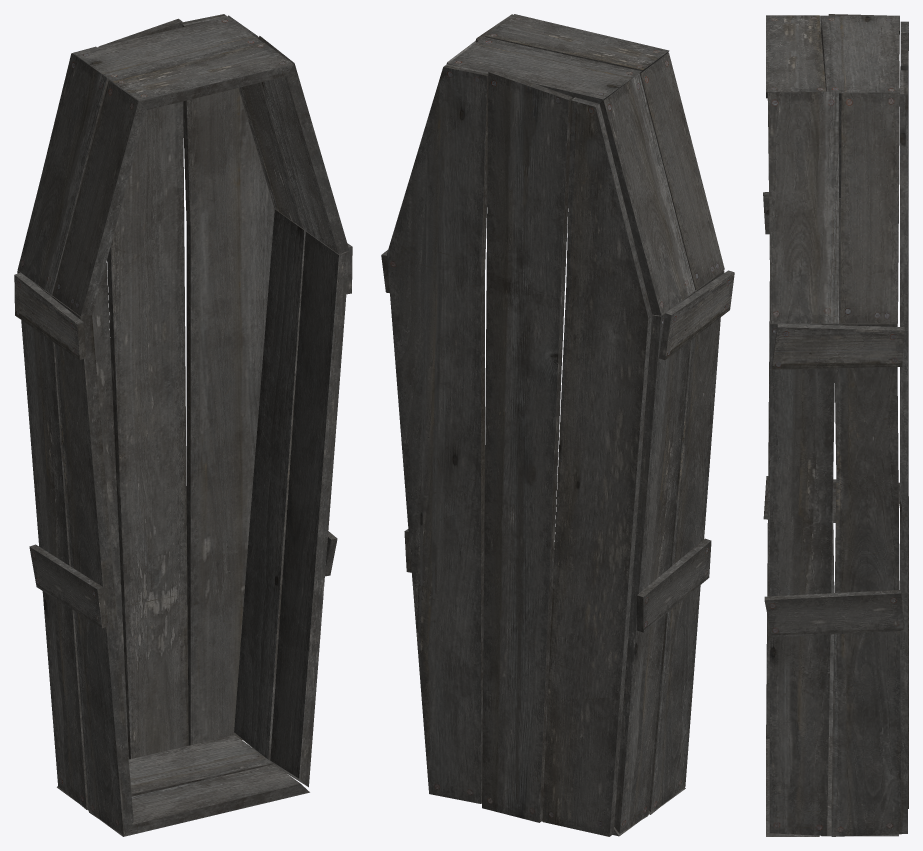
Rendered from SM_coffin_01.fbx.
The picture shows the model from 3 angles, left to right: view 1: azimuth 30°, elevation 25°; view 2: azimuth 150°, elevation 25°; view 3: azimuth 270°, elevation 25°; orthographic projection.
Visible parts, largest first — view 1: SM_coffin_01_LOD0; view 2: SM_coffin_01_LOD0; view 3: SM_coffin_01_LOD0.
Boxes of the visible parts, x1,y1,x2,y2 form: SM_coffin_01_LOD0: (14,14,352,836); SM_coffin_01_LOD0: (381,14,734,836); SM_coffin_01_LOD0: (763,14,908,836).
Bounding box in the file's own units: 80.02 × 35.57 × 200.
Materials: 1 (1 with a texture image).
